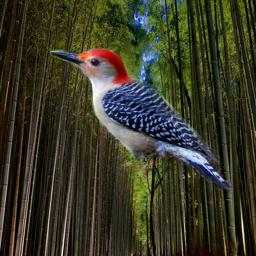Woodpecker: (50, 48, 233, 190)
